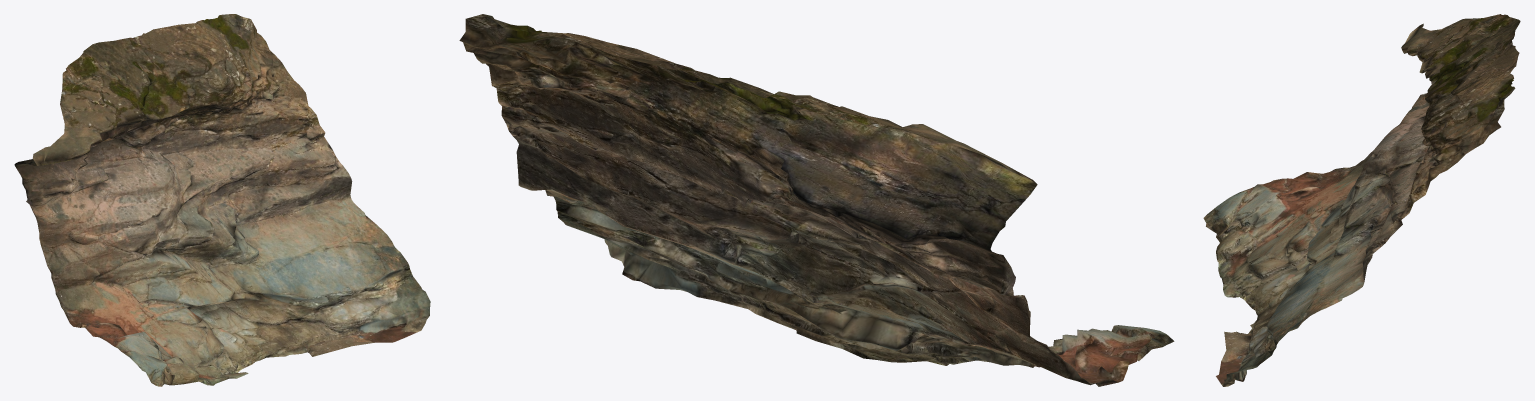
The model's file is rock_face_01_lod0.glb.
3 views of the same model, side by side, from view 1: azimuth 30°, elevation 25°; view 2: azimuth 150°, elevation 25°; view 3: azimuth 270°, elevation 25° (orthographic). The views are drawn at different scales.
Visible parts, largest first — view 1: rock_face_01; view 2: rock_face_01; view 3: rock_face_01.
Part boxes in pixels (x1,y1,x2,y2): rock_face_01: (14, 14, 430, 386); rock_face_01: (459, 14, 1174, 386); rock_face_01: (1203, 14, 1520, 386).
Size of the model in its own units: 4.95 by 3.56 by 3.83.
Materials: 1 (1 with a texture image).
